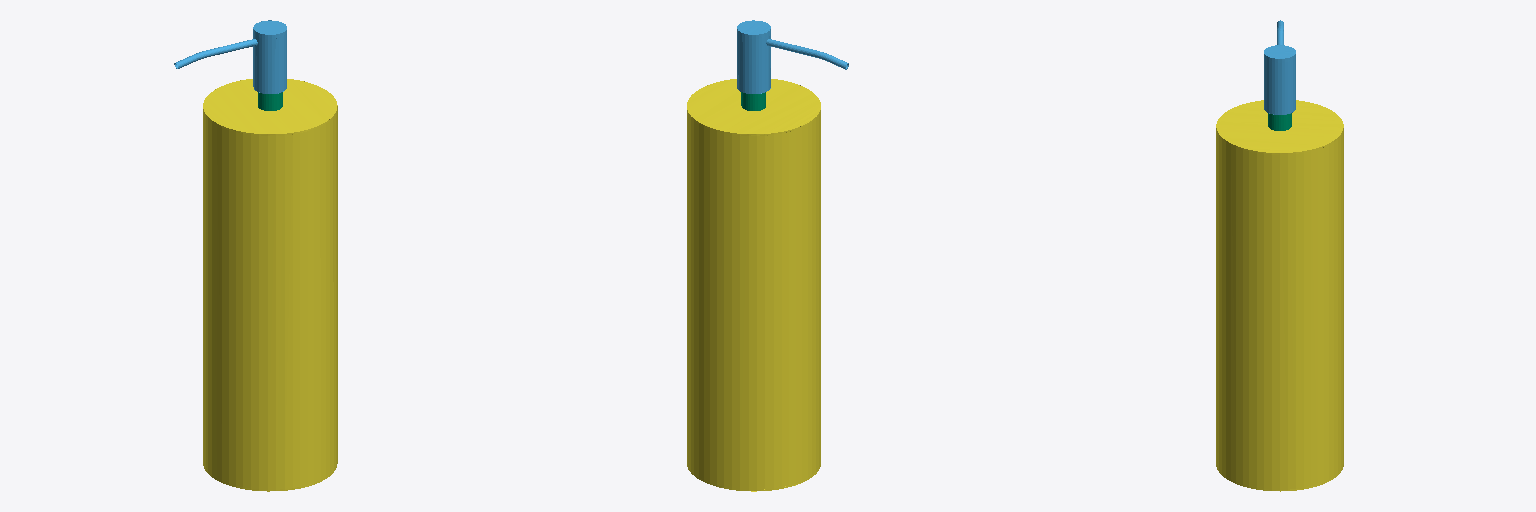
robot.urdf — partnet_50e0970b-a234-4c61-b3ff-b60265059b89-0:
<?xml version="1.0" ?>
<robot name="partnet_50e0970b-a234-4c61-b3ff-b60265059b89-0">
	<link name="base"/>
	<link name="link_0">
		<visual name="pressing_lid-1">
			<origin xyz="-0.0008138330884820463 0 0.00286446823294588"/>
			<geometry>
				<mesh filename="textured_objs/original_6.obj"/>
			</geometry>
		</visual>
		<visual name="pressing_lid-1">
			<origin xyz="-0.0008138330884820463 0 0.00286446823294588"/>
			<geometry>
				<mesh filename="textured_objs/original_4.obj"/>
			</geometry>
		</visual>
		<visual name="pressing_lid-1">
			<origin xyz="-0.0008138330884820463 0 0.00286446823294588"/>
			<geometry>
				<mesh filename="textured_objs/original_3.obj"/>
			</geometry>
		</visual>
		<collision>
			<origin xyz="-0.0008138330884820463 0 0.00286446823294588"/>
			<geometry>
				<mesh filename="textured_objs/original_6.obj"/>
			</geometry>
		</collision>
		<collision>
			<origin xyz="-0.0008138330884820463 0 0.00286446823294588"/>
			<geometry>
				<mesh filename="textured_objs/original_4.obj"/>
			</geometry>
		</collision>
		<collision>
			<origin xyz="-0.0008138330884820463 0 0.00286446823294588"/>
			<geometry>
				<mesh filename="textured_objs/original_3.obj"/>
			</geometry>
		</collision>
	</link>
	<joint name="joint_0" type="continuous">
		<origin xyz="0.0 0 0.0"/>
		<axis xyz="0 1 0"/>
		<child link="link_0"/>
		<parent link="link_0_helper"/>
	</joint>
	<link name="link_1">
		<visual name="head-3">
			<origin xyz="-0.0008138330884820463 0 0.00286446823294588"/>
			<geometry>
				<mesh filename="textured_objs/original_7.obj"/>
			</geometry>
		</visual>
		<collision>
			<origin xyz="-0.0008138330884820463 0 0.00286446823294588"/>
			<geometry>
				<mesh filename="textured_objs/original_7.obj"/>
			</geometry>
		</collision>
	</link>
	<joint name="joint_1" type="continuous">
		<origin xyz="0.0 0 0.0"/>
		<axis xyz="0 -1 0"/>
		<child link="link_1"/>
		<parent link="link_1_helper"/>
	</joint>
	<link name="link_2">
		<visual name="base_body-5">
			<origin xyz="0 0 0"/>
			<geometry>
				<mesh filename="textured_objs/original_9.obj"/>
			</geometry>
		</visual>
		<visual name="base_body-5">
			<origin xyz="0 0 0"/>
			<geometry>
				<mesh filename="textured_objs/original_11.obj"/>
			</geometry>
		</visual>
		<visual name="base_body-5">
			<origin xyz="0 0 0"/>
			<geometry>
				<mesh filename="textured_objs/original_10.obj"/>
			</geometry>
		</visual>
		<collision>
			<origin xyz="0 0 0"/>
			<geometry>
				<mesh filename="textured_objs/original_9.obj"/>
			</geometry>
		</collision>
		<collision>
			<origin xyz="0 0 0"/>
			<geometry>
				<mesh filename="textured_objs/original_11.obj"/>
			</geometry>
		</collision>
		<collision>
			<origin xyz="0 0 0"/>
			<geometry>
				<mesh filename="textured_objs/original_10.obj"/>
			</geometry>
		</collision>
	</link>
	<joint name="joint_2" type="fixed">
		<origin rpy="1.570796326794897 0 -1.570796326794897" xyz="0 0 0"/>
		<child link="link_2"/>
		<parent link="base"/>
	</joint>
	<link name="link_0_helper">
		<inertial>
			<origin xyz="0 0 0"/>
			<mass value="1e-6"/>
			<inertia ixx="1e-10" ixy="0" ixz="0" iyy="1e-10" iyz="0" izz="1e-10"/>
		</inertial>
	</link>
	<joint name="joint_3" type="prismatic">
		<origin xyz="0.0 0 0.0"/>
		<axis xyz="0 -1 0"/>
		<child link="link_0_helper"/>
		<parent link="link_1"/>
		<limit lower="0" upper="0.07"/>
	</joint>
	<link name="link_1_helper">
		<inertial>
			<origin xyz="0 0 0"/>
			<mass value="1e-6"/>
			<inertia ixx="1e-10" ixy="0" ixz="0" iyy="1e-10" iyz="0" izz="1e-10"/>
		</inertial>
	</link>
	<joint name="joint_4" type="prismatic">
		<origin xyz="0.0008138330884820463 0 -0.00286446823294588"/>
		<axis xyz="0 1 0"/>
		<child link="link_1_helper"/>
		<parent link="link_2"/>
		<limit lower="0" upper="0.02"/>
	</joint>
</robot>

--- Render facts (derived) ---
3 views of the same robot in one strip: view 1: azimuth 30°, elevation 25°; view 2: azimuth 150°, elevation 25°; view 3: azimuth 270°, elevation 25° (orthographic).
Model partnet_50e0970b-a234-4c61-b3ff-b60265059b89-0 with 6 links and 5 joints (2 continuous, 2 prismatic, 1 fixed), rooted at base, posed all joints at 0.
Links seen in each view (by area): view 1: link_2, link_0; view 2: link_2, link_0; view 3: link_2, link_0.
Link boxes in pixels (box(x1,y1,x2,y2)): link_2: box(203, 79, 337, 491); link_0: box(174, 20, 286, 93); link_2: box(687, 79, 820, 491); link_0: box(737, 20, 848, 93); link_2: box(1216, 100, 1343, 491); link_0: box(1264, 20, 1295, 114).
Size in the robot's own frame: 0.6345 by 0.4836 by 1.73 metres.
7 mesh visuals loaded from 7 distinct referenced files (7 OBJ).
